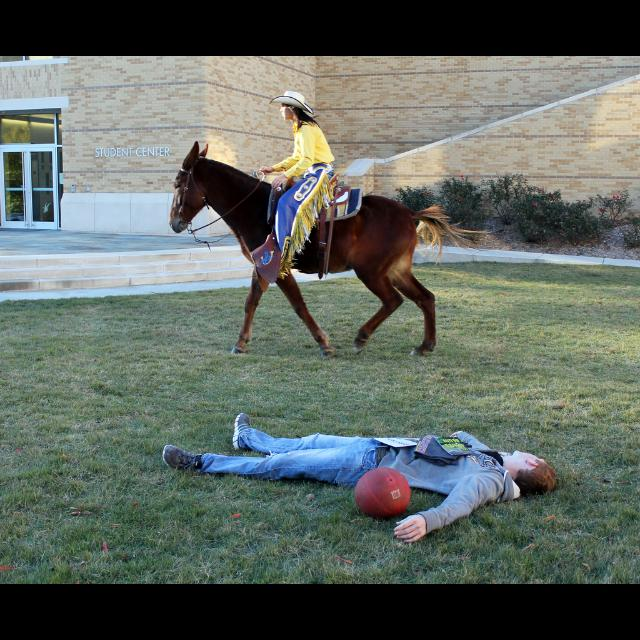Football: (353, 465, 411, 519)
